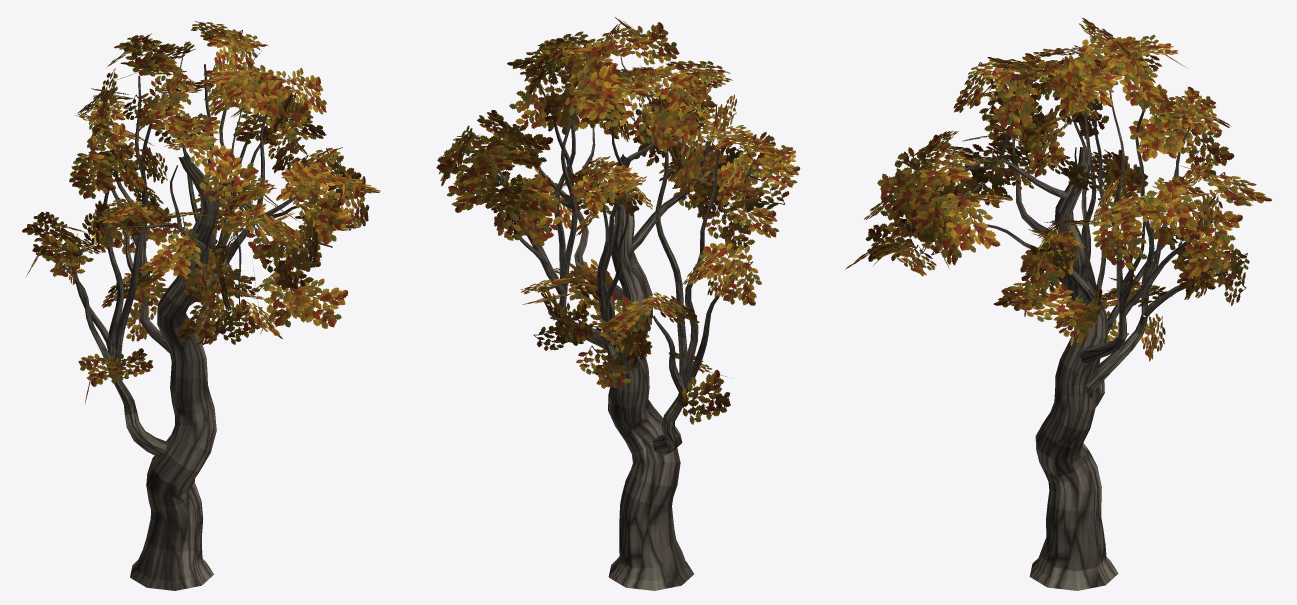
The model's file is pr_oldtree.glb.
The picture shows the model from 3 angles, left to right: view 1: azimuth 30°, elevation 25°; view 2: azimuth 150°, elevation 25°; view 3: azimuth 270°, elevation 25°; orthographic projection. The views are drawn at different scales.
Visible parts, largest first — view 1: pr_oldtree; view 2: pr_oldtree; view 3: pr_oldtree.
Part boxes in pixels (x1,y1,x2,y2): pr_oldtree: [22, 21, 380, 590]; pr_oldtree: [436, 17, 800, 590]; pr_oldtree: [845, 17, 1271, 590].
Bounding box in the file's own units: 8.54 × 13.9 × 9.88.
2 materials, 2 textured.
